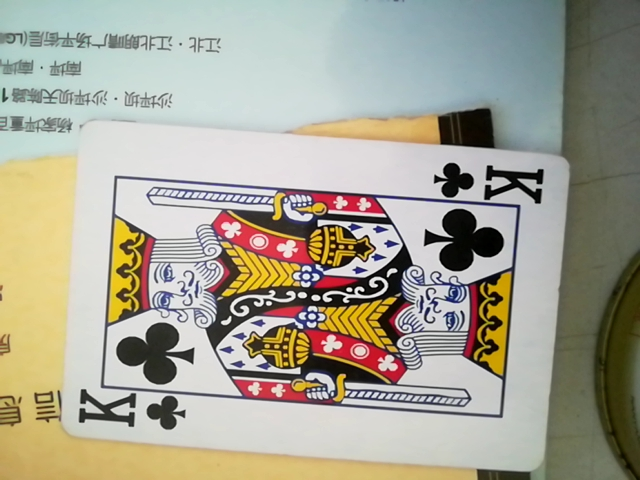mh k: (57, 123, 568, 475)
